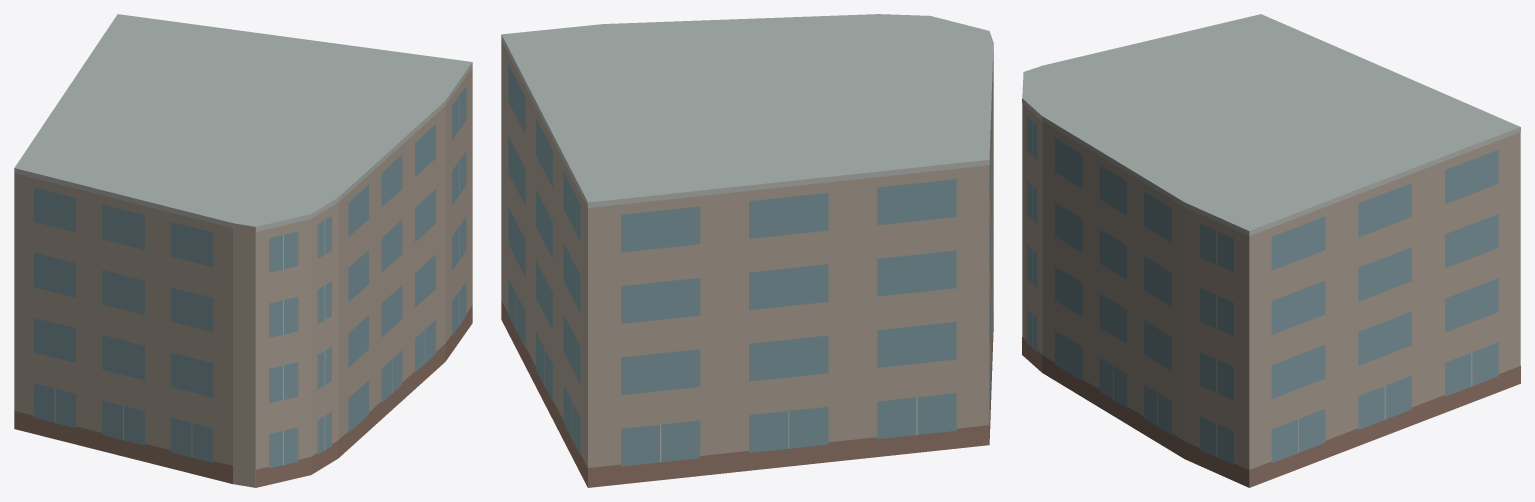
The model's file is survey-upis-32773210.glb.
The picture shows the model from 3 angles, left to right: view 1: azimuth 30°, elevation 25°; view 2: azimuth 150°, elevation 25°; view 3: azimuth 270°, elevation 25°; orthographic projection. The views are drawn at different scales.
Visible parts, largest first — view 1: survey-upis-32773210.tmp; view 2: survey-upis-32773210.tmp; view 3: survey-upis-32773210.tmp.
Part boxes in pixels (<box>): survey-upis-32773210.tmp: <box>14,14,472,487</box>; survey-upis-32773210.tmp: <box>501,14,993,487</box>; survey-upis-32773210.tmp: <box>1022,14,1520,487</box>.
Bounding box in the file's own units: 22.96 × 12.65 × 22.27.
